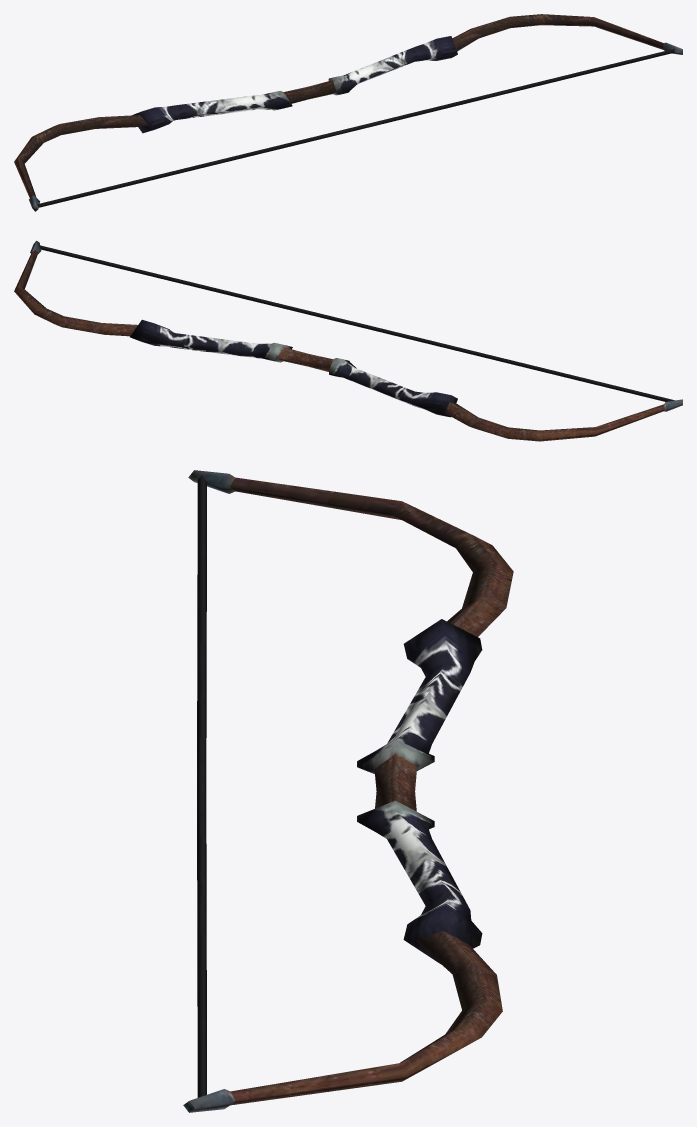
The model's file is KM_ITRW_BOW_03.glb.
3 views of the same model, one above another, from view 1: azimuth 30°, elevation 25°; view 2: azimuth 150°, elevation 25°; view 3: azimuth 270°, elevation 25° (orthographic). The views are drawn at different scales.
Visible parts, largest first — view 1: KM_ITRW_BOW_03; view 2: KM_ITRW_BOW_03; view 3: KM_ITRW_BOW_03.
Boxes of the visible parts, <box> form: KM_ITRW_BOW_03: <box>14,14,682,211</box>; KM_ITRW_BOW_03: <box>14,240,682,441</box>; KM_ITRW_BOW_03: <box>183,470,513,1112</box>.
Bounding box in the file's own units: 2.04 × 0.067 × 0.4492.
2 materials, 2 textured.
